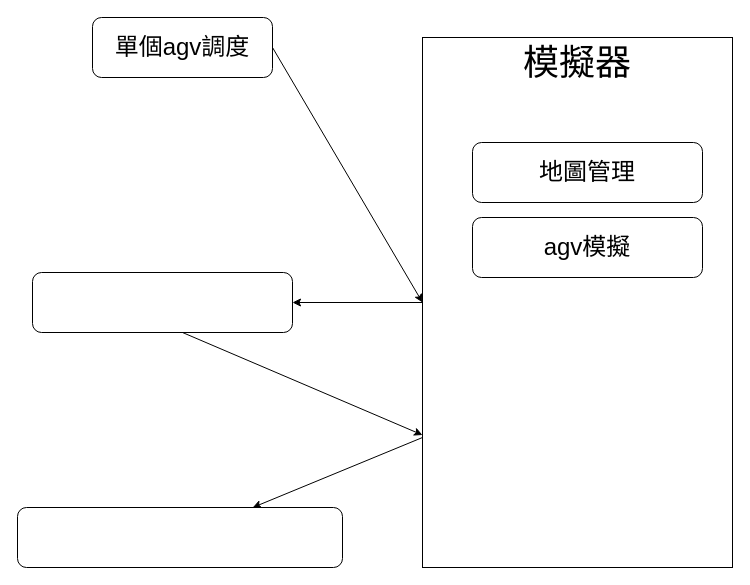
The diagram is 750 pixels wide and 585 high, and some of its shapes have lost their labels. Here are the shapes that lost their labels. From the top down, the box of each, then its label:
(32, 272, 292, 332): 多個agv各自調度 （任務沒有交集）
(16, 506, 342, 568): 多個agv交互調度 （任務有交集or路徑有重疊）
